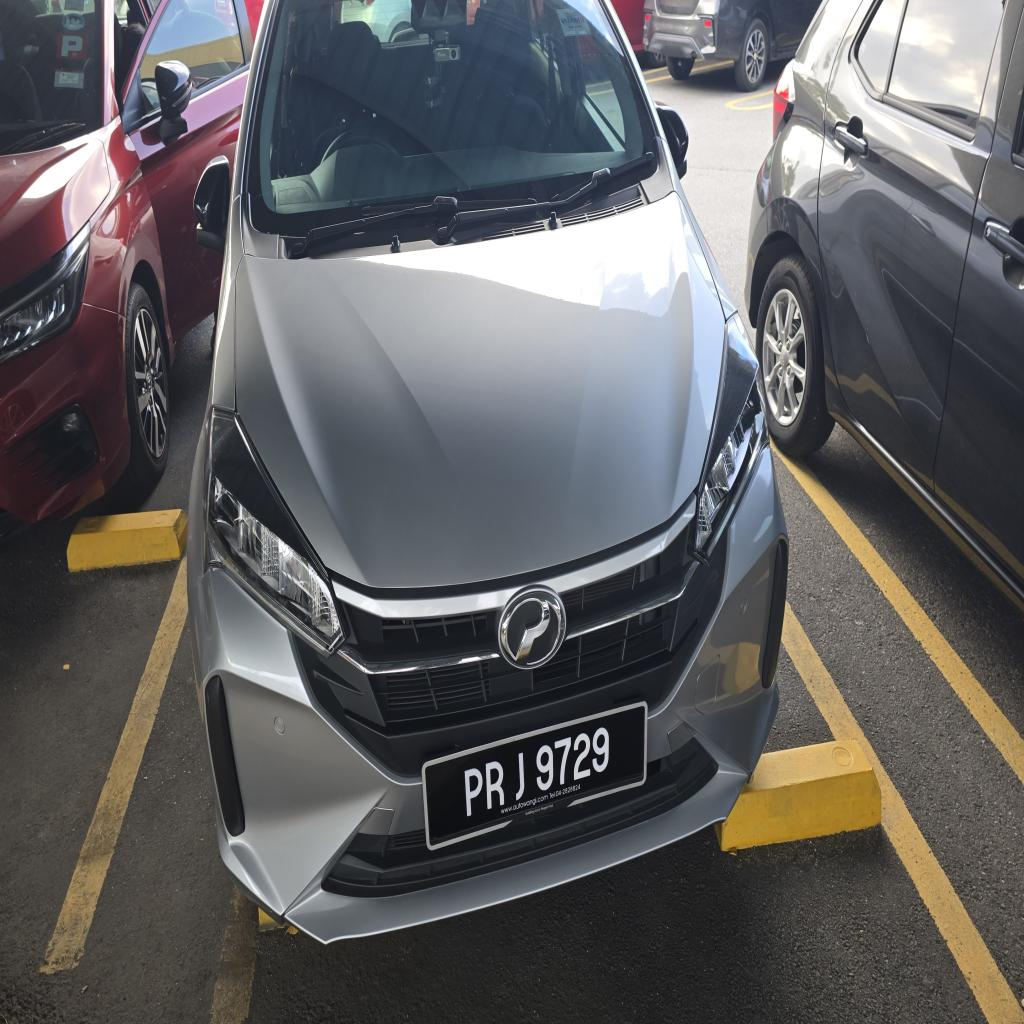car: (188, 0, 787, 941)
car plate: (422, 703, 646, 848)
